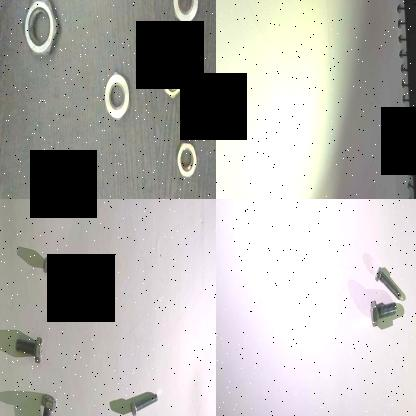Bolts: (12, 322, 44, 368), (41, 250, 73, 288), (128, 380, 160, 416), (368, 296, 398, 332), (374, 263, 402, 300), (34, 387, 58, 416)
NUTS: (20, 0, 62, 58), (100, 64, 132, 122), (158, 55, 186, 102), (130, 21, 158, 61), (174, 139, 200, 181), (168, 0, 199, 26)
